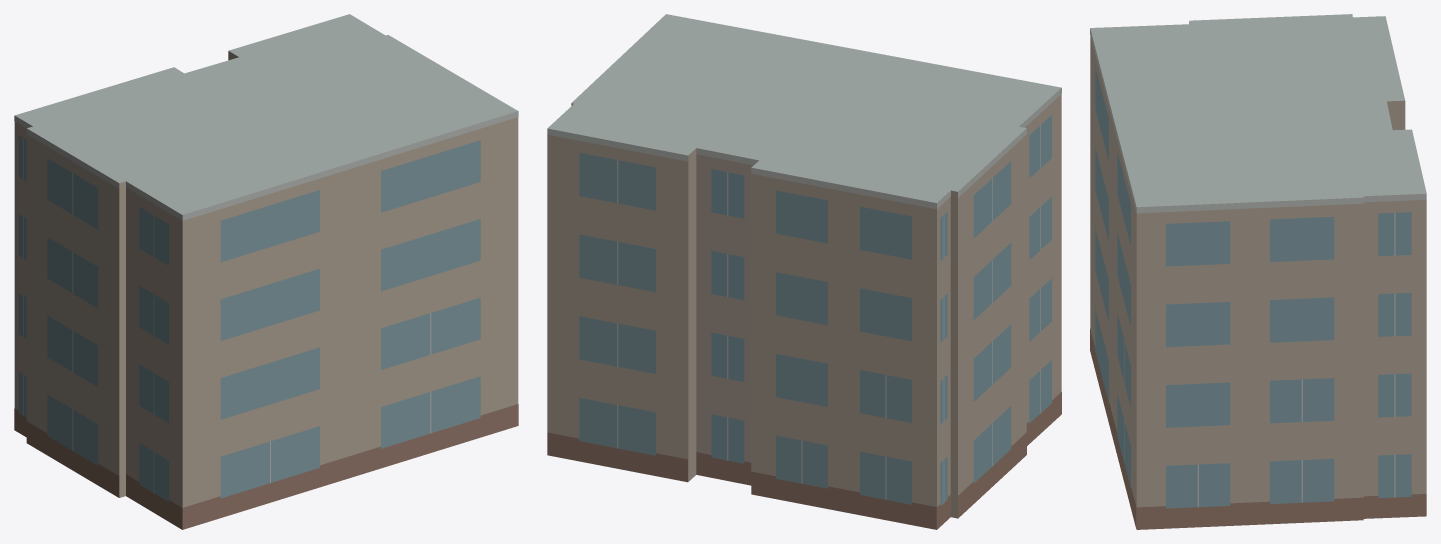
Rendered from survey-upis-32669281.glb.
The picture shows the model from 3 angles, left to right: view 1: azimuth 30°, elevation 25°; view 2: azimuth 150°, elevation 25°; view 3: azimuth 270°, elevation 25°; orthographic projection. The views are drawn at different scales.
Visible parts, largest first — view 1: survey-upis-32669281.tmp; view 2: survey-upis-32669281.tmp; view 3: survey-upis-32669281.tmp.
Part boxes in pixels (x1,y1,x2,y2): survey-upis-32669281.tmp: [14, 14, 518, 529]; survey-upis-32669281.tmp: [547, 14, 1061, 529]; survey-upis-32669281.tmp: [1090, 14, 1426, 529].
Bounding box in the file's own units: 16.71 × 13 × 12.31.
